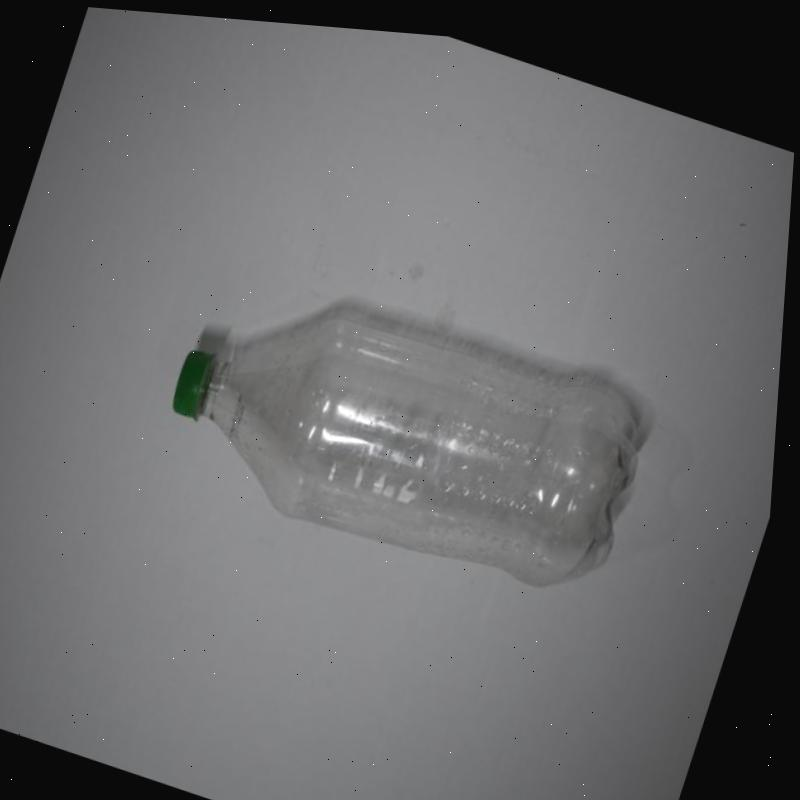botella: (147, 239, 669, 611)
